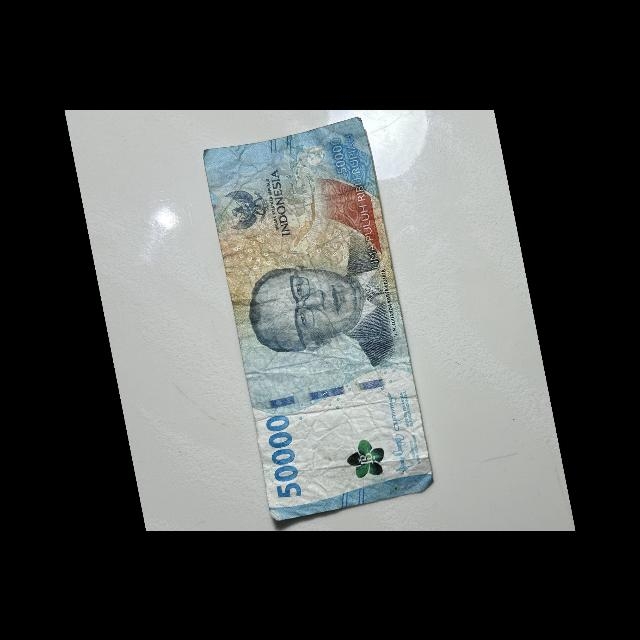Palsu-50k: (197, 112, 438, 526)
Tinta-Palsu-50k: (345, 436, 385, 481)
